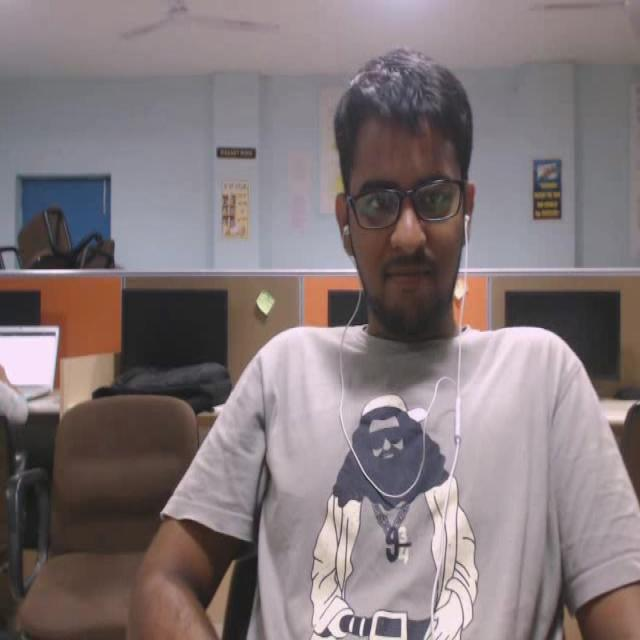Engaged: (318, 44, 494, 351)
